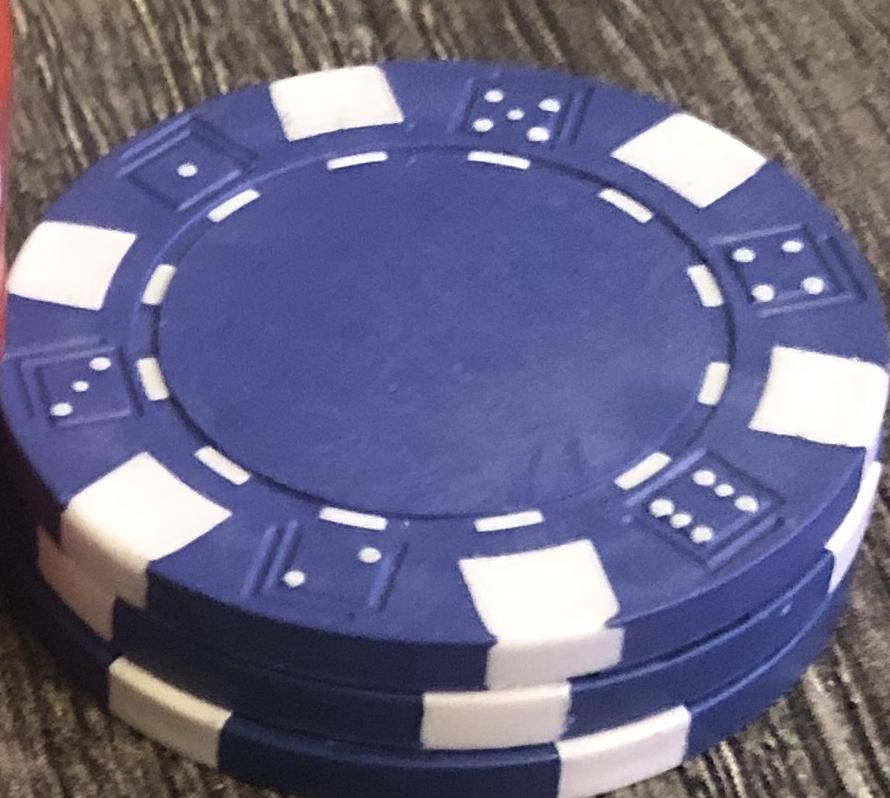Chip: (1, 1, 890, 798)
